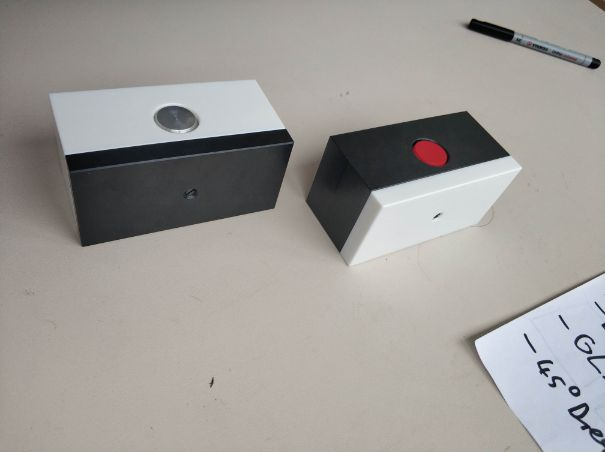black+white+silver: (47, 78, 297, 248)
white+black+red: (304, 109, 525, 272)
